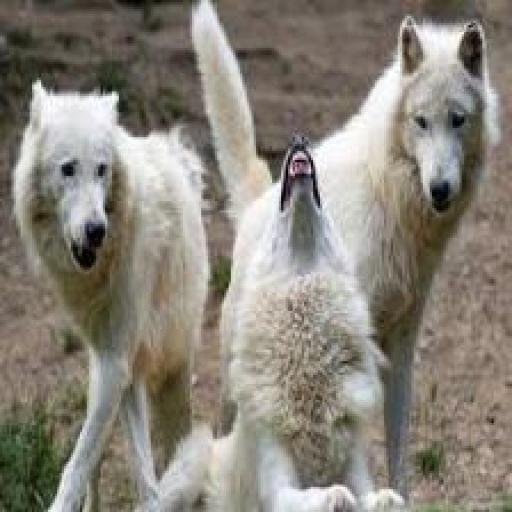wolf: (155, 0, 511, 277), (9, 59, 223, 511), (203, 125, 407, 512)
